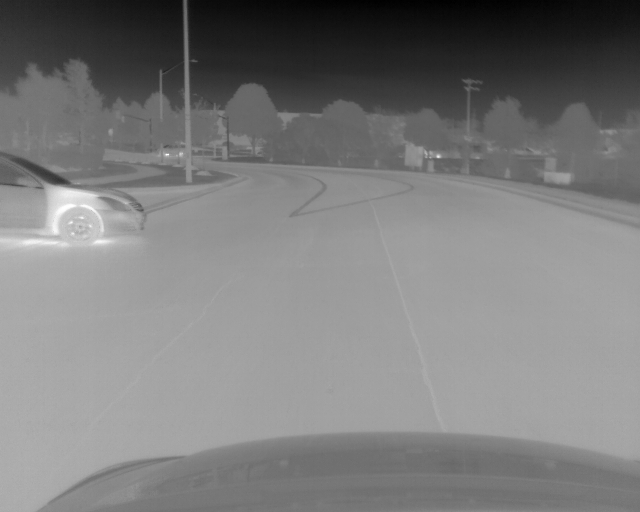car: (1, 147, 150, 245), (160, 141, 185, 163)
